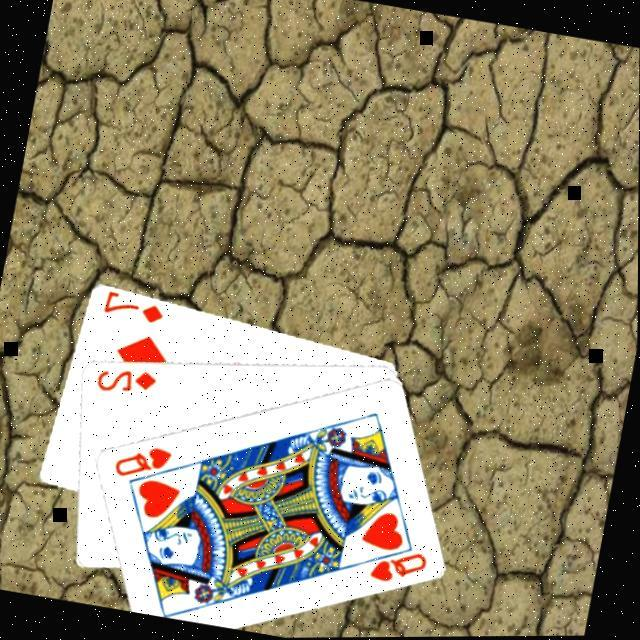2D: (90, 360, 158, 402)
7D: (96, 289, 166, 328)
QH: (350, 534, 430, 592), (107, 437, 174, 488)
